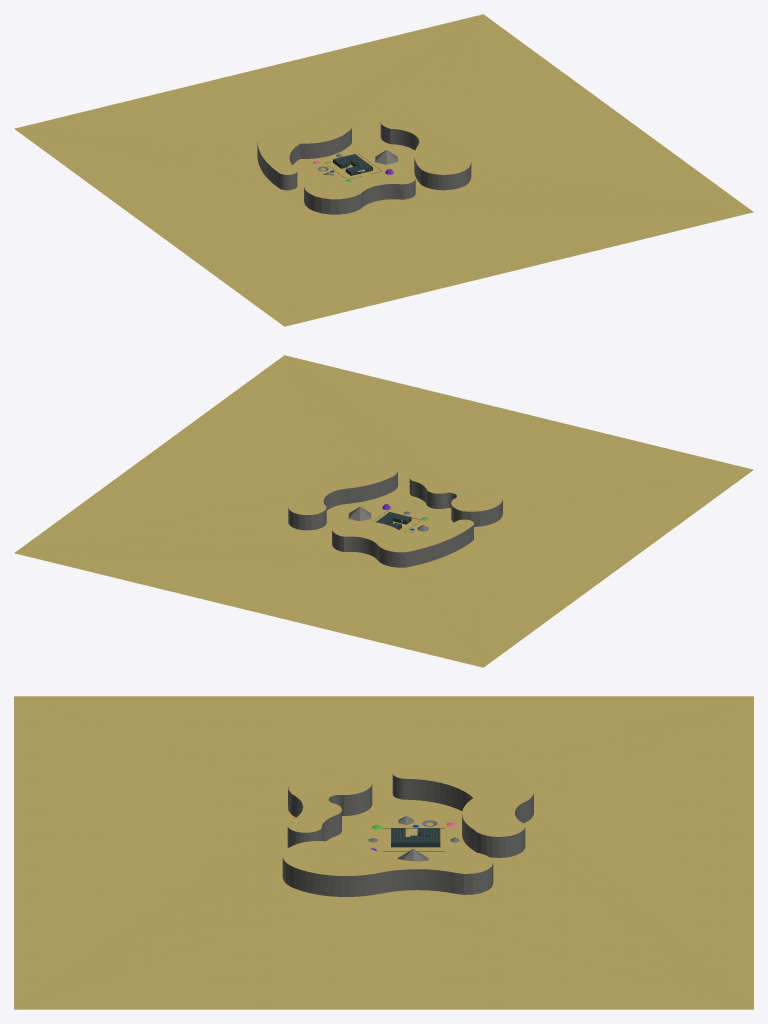
3 views of the same model, one above another, from view 1: azimuth 30°, elevation 25°; view 2: azimuth 150°, elevation 25°; view 3: azimuth 270°, elevation 25° (orthographic). The views are drawn at different scales.
Parts seen in each view (by area): view 1: Wonders_of_the_Sunken_Sanctuary_SKP__Sand, Wonders_of_the_Sunken_Sanctuary_SKP__Rock; view 2: Wonders_of_the_Sunken_Sanctuary_SKP__Sand, Wonders_of_the_Sunken_Sanctuary_SKP__Rock; view 3: Wonders_of_the_Sunken_Sanctuary_SKP__Sand, Wonders_of_the_Sunken_Sanctuary_SKP__Rock, Wonders_of_the_Sunken_Sanctuary_SKP__Exterior.
Boxes of the visible parts, box(x1,y1,x2,y2) form: Wonders_of_the_Sunken_Sanctuary_SKP__Sand: box(14, 14, 753, 326); Wonders_of_the_Sunken_Sanctuary_SKP__Rock: box(257, 122, 471, 214); Wonders_of_the_Sunken_Sanctuary_SKP__Sand: box(14, 355, 753, 667); Wonders_of_the_Sunken_Sanctuary_SKP__Rock: box(288, 471, 502, 567); Wonders_of_the_Sunken_Sanctuary_SKP__Sand: box(14, 696, 753, 1009); Wonders_of_the_Sunken_Sanctuary_SKP__Rock: box(282, 774, 533, 896); Wonders_of_the_Sunken_Sanctuary_SKP__Exterior: box(391, 828, 440, 847).
Size of the model in its own units: 861182 by 27675 by 859581.
Materials: 16 (16 with a texture image).
